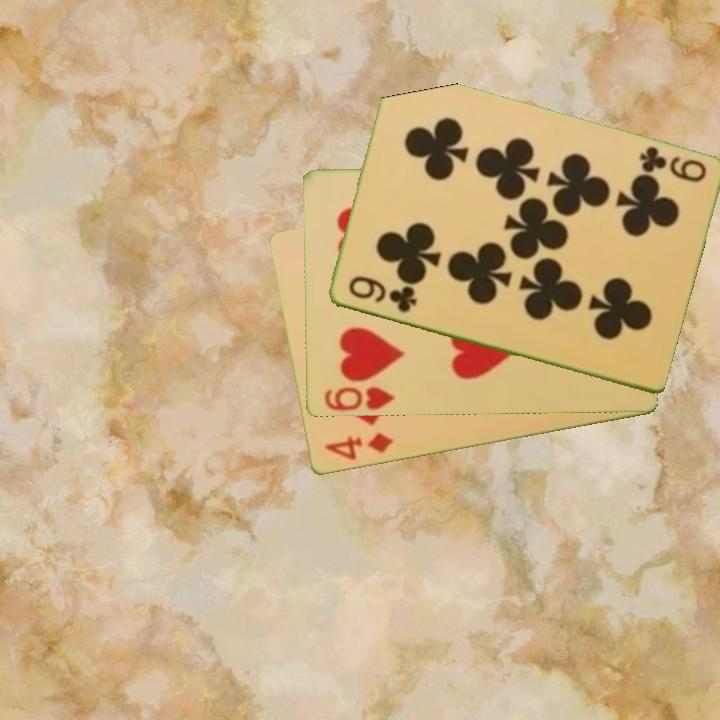4d: (321, 429, 396, 463)
6h: (320, 383, 397, 413)
9c: (344, 272, 420, 316), (635, 143, 709, 186)
